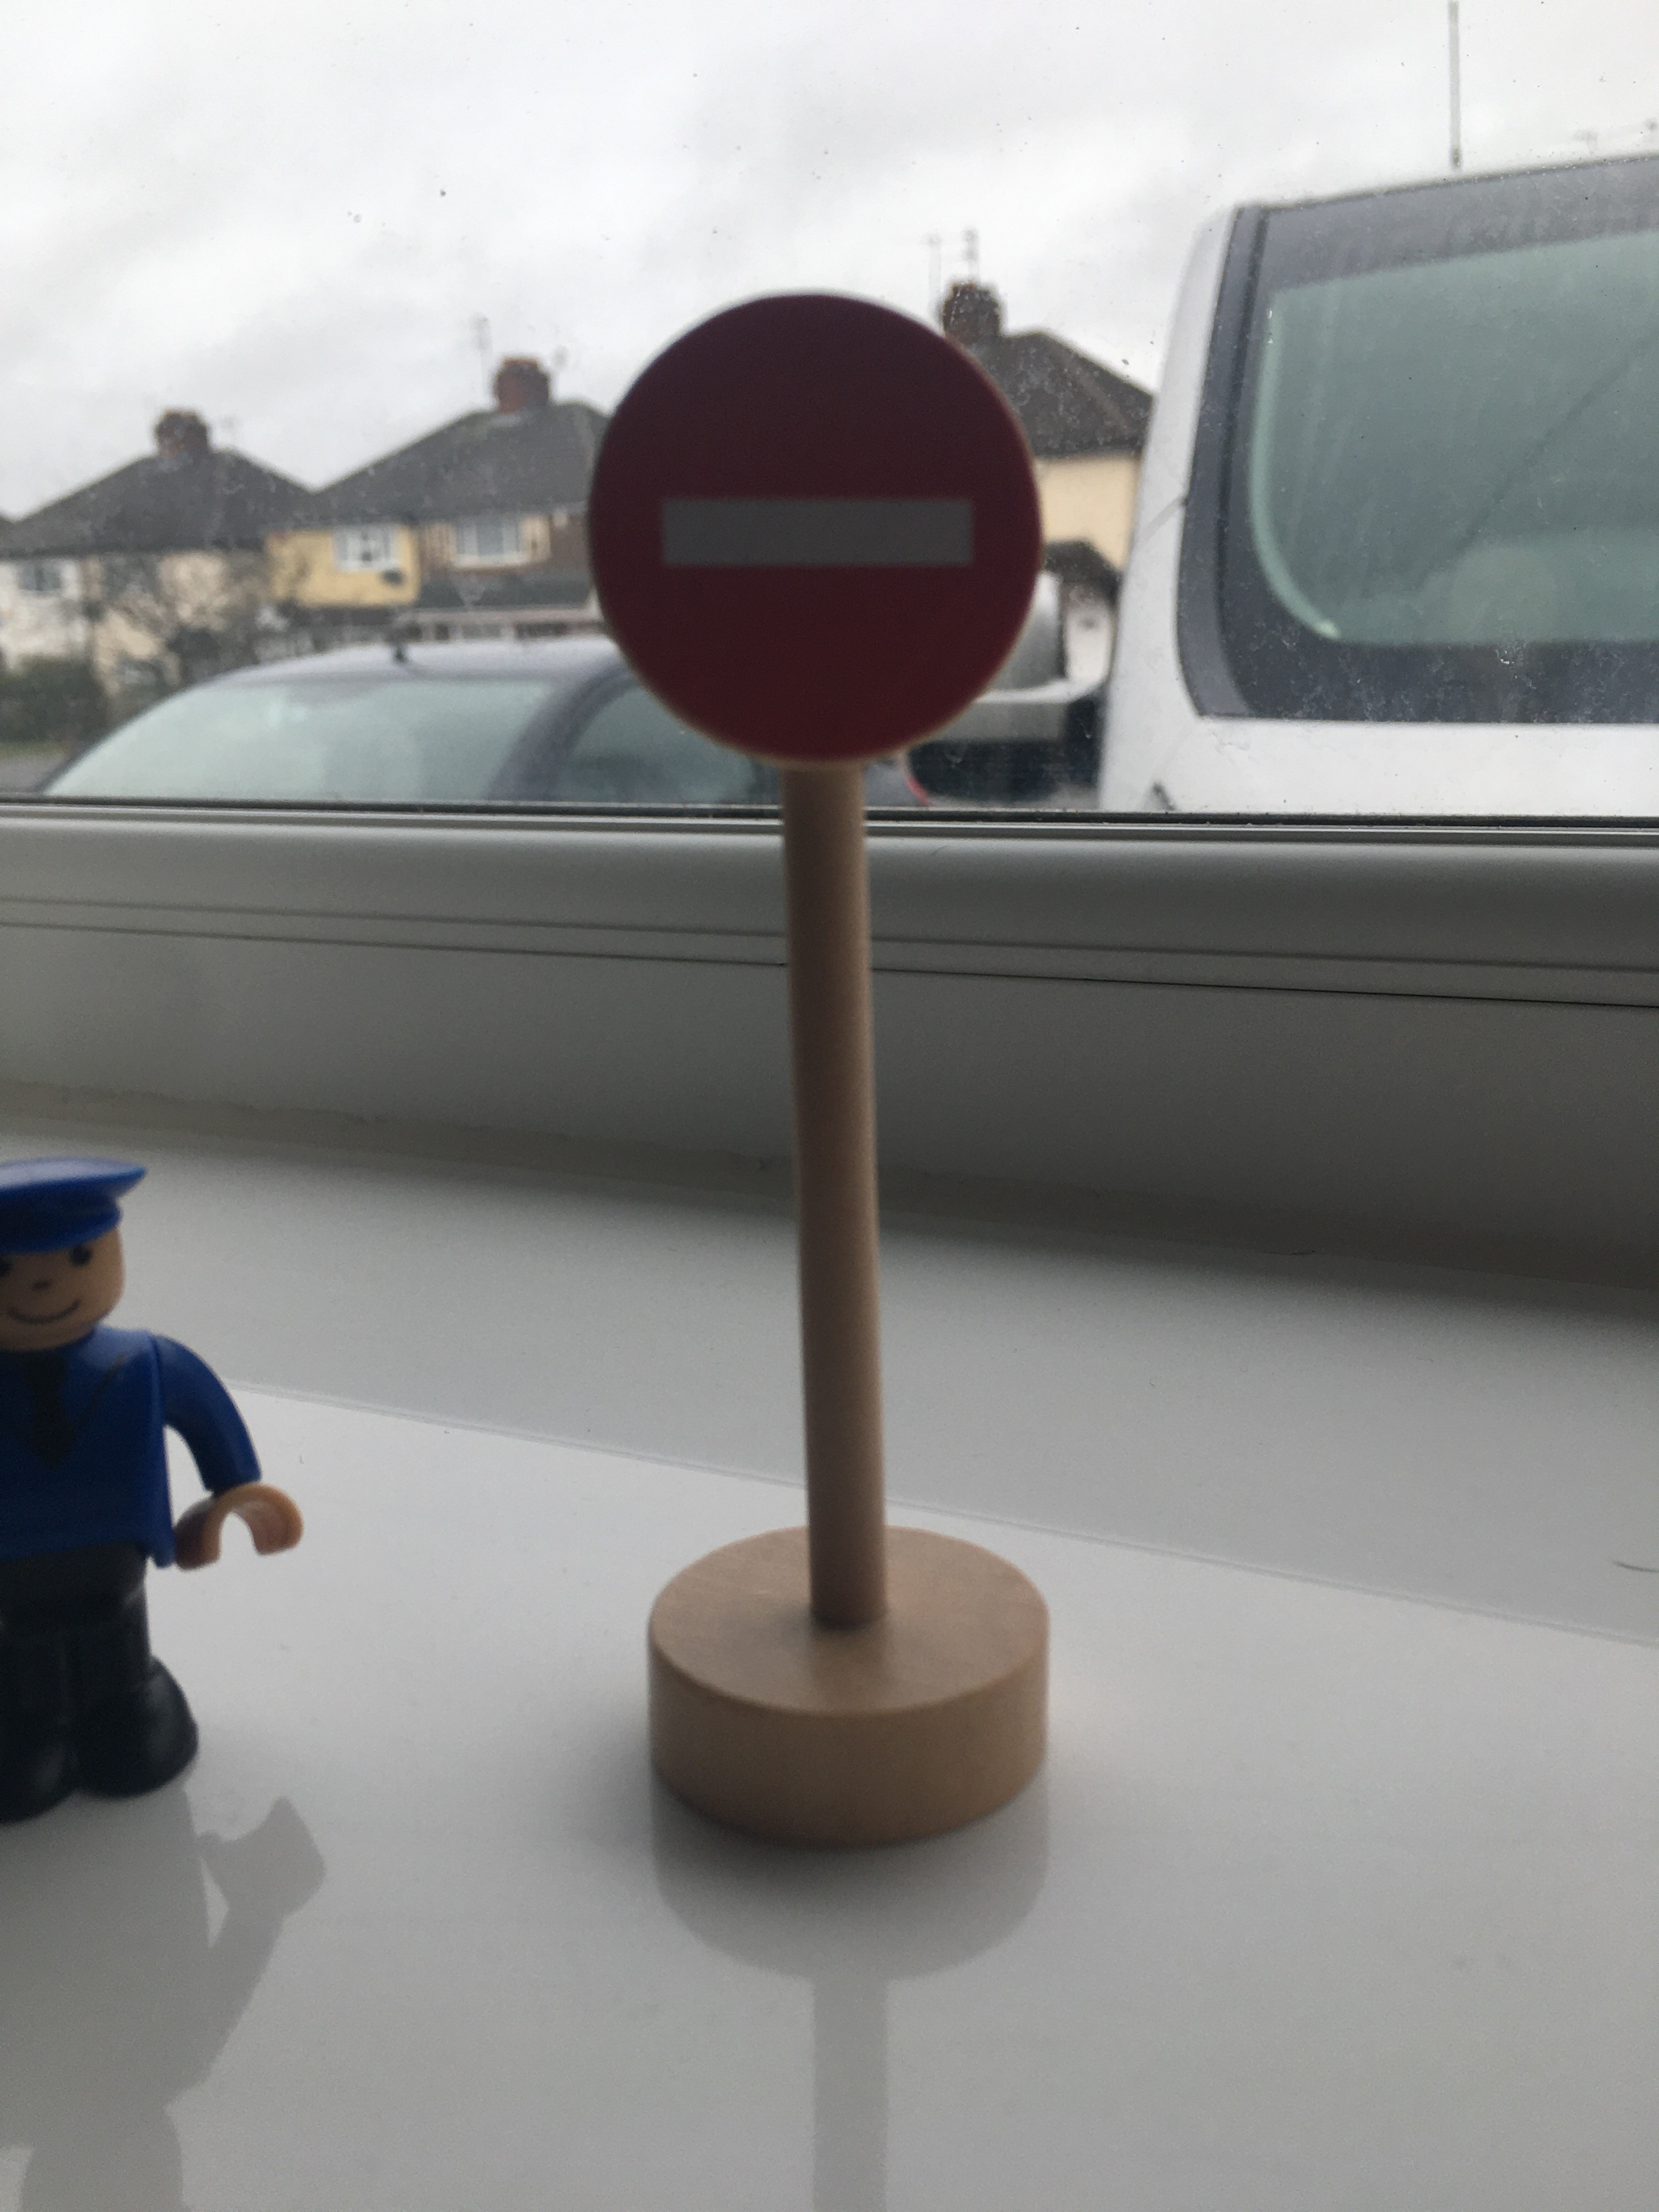Traffic_Sign_No_Entry: (594, 296, 1032, 761)
